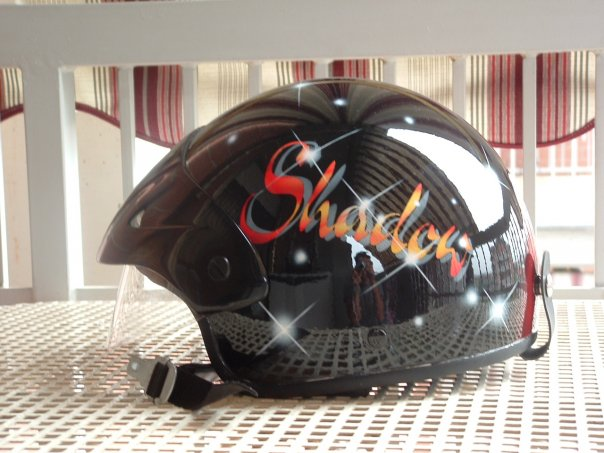helmet: (188, 90, 541, 394)
